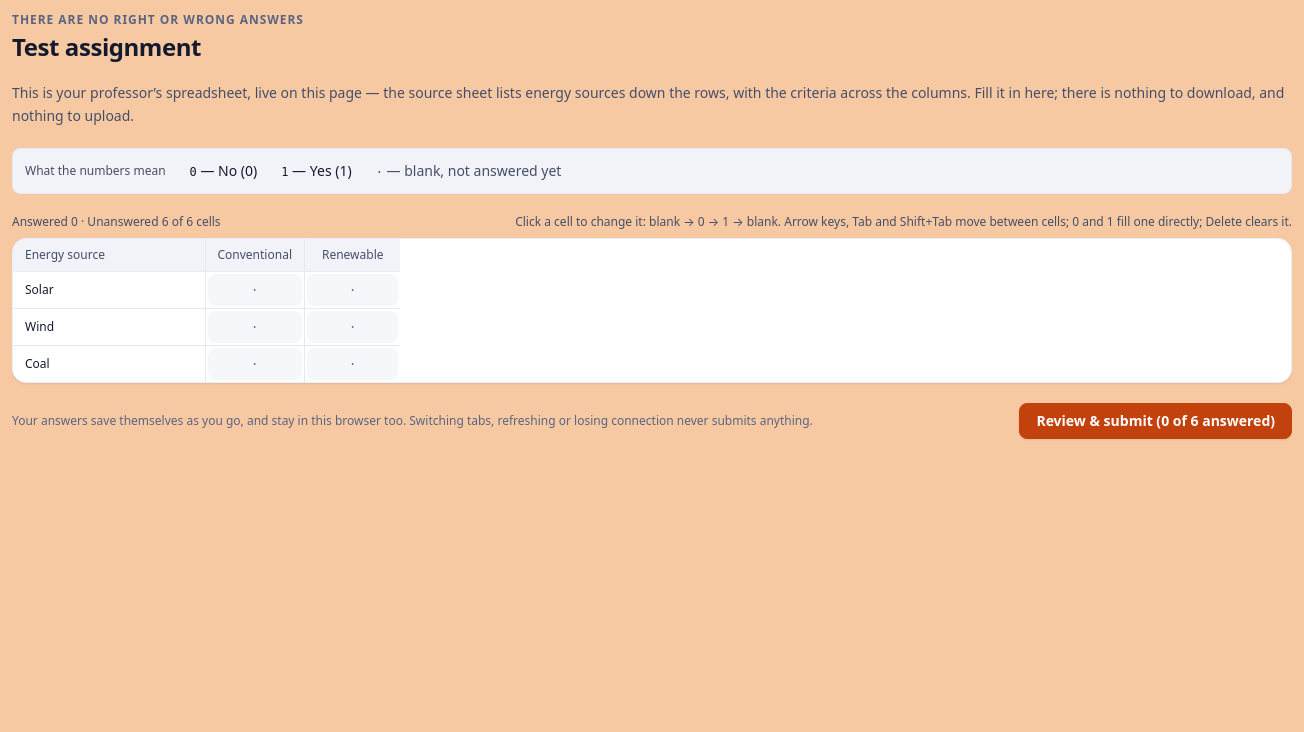
Test: terminal failures › ALREADY_SUBMITTED stops retrying at once and says what happened
Click the button named "Solar — Conventional". click: (255, 290)
box: top-left (208, 274), bottom-right (302, 306)
Wait 120800 ms
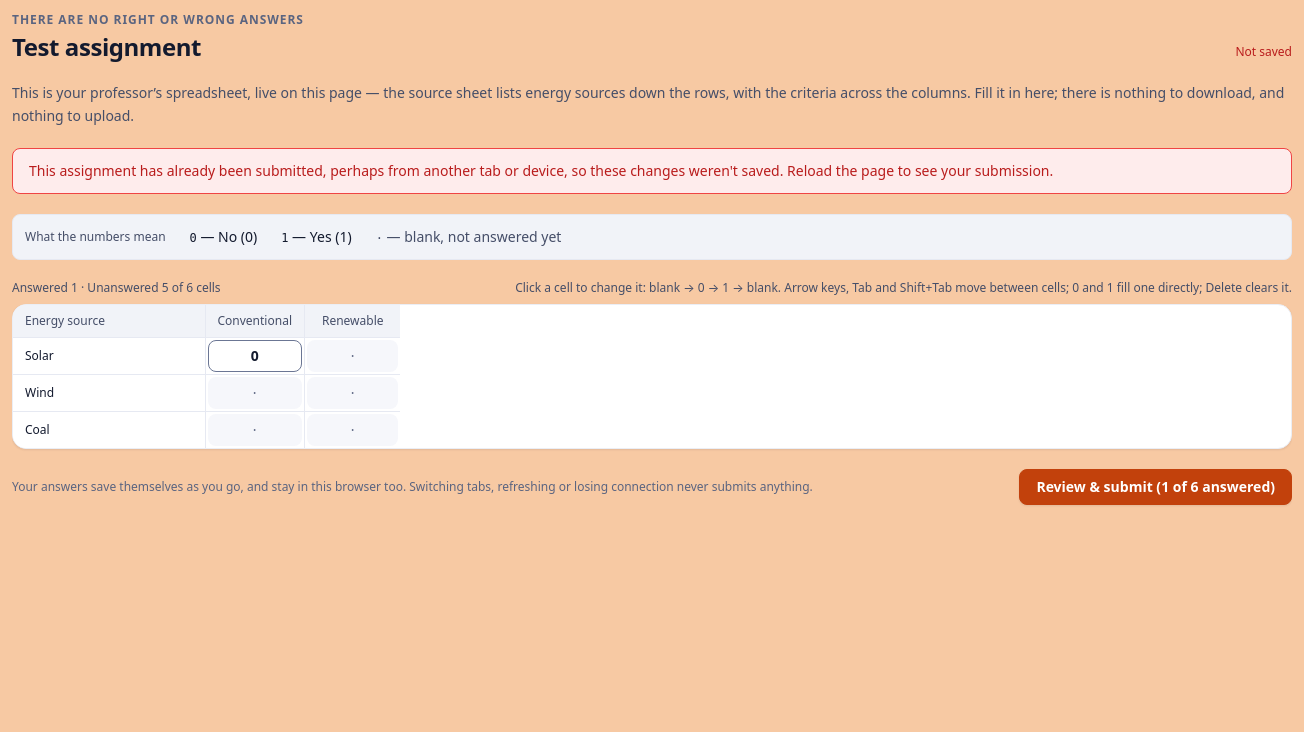
Expected: the 2nd message shows "already been submitted", top-left (29, 160), bottom-right (1053, 180)
